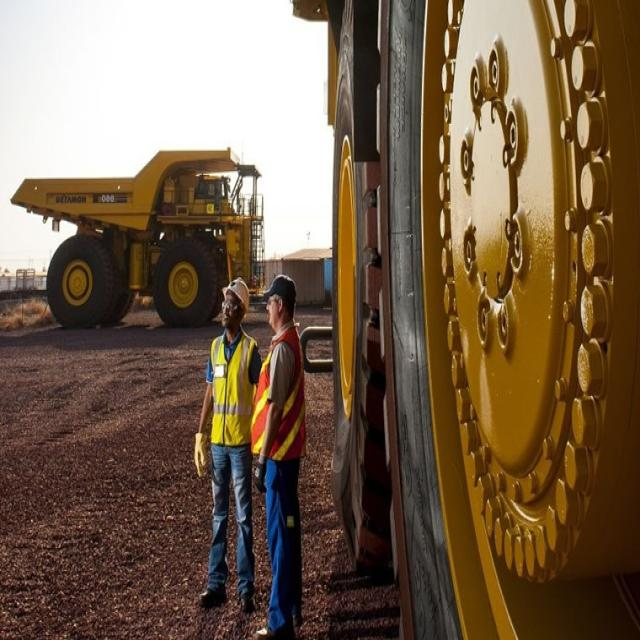dump_truck: (11, 126, 284, 322)
